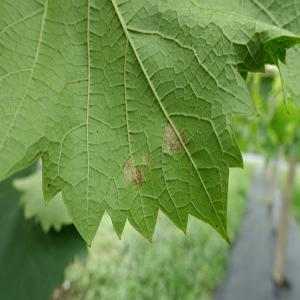Folha: (0, 0, 300, 248)
Fungo: (162, 118, 186, 156), (122, 154, 146, 188), (141, 150, 151, 172), (135, 167, 142, 183), (47, 183, 51, 188)
